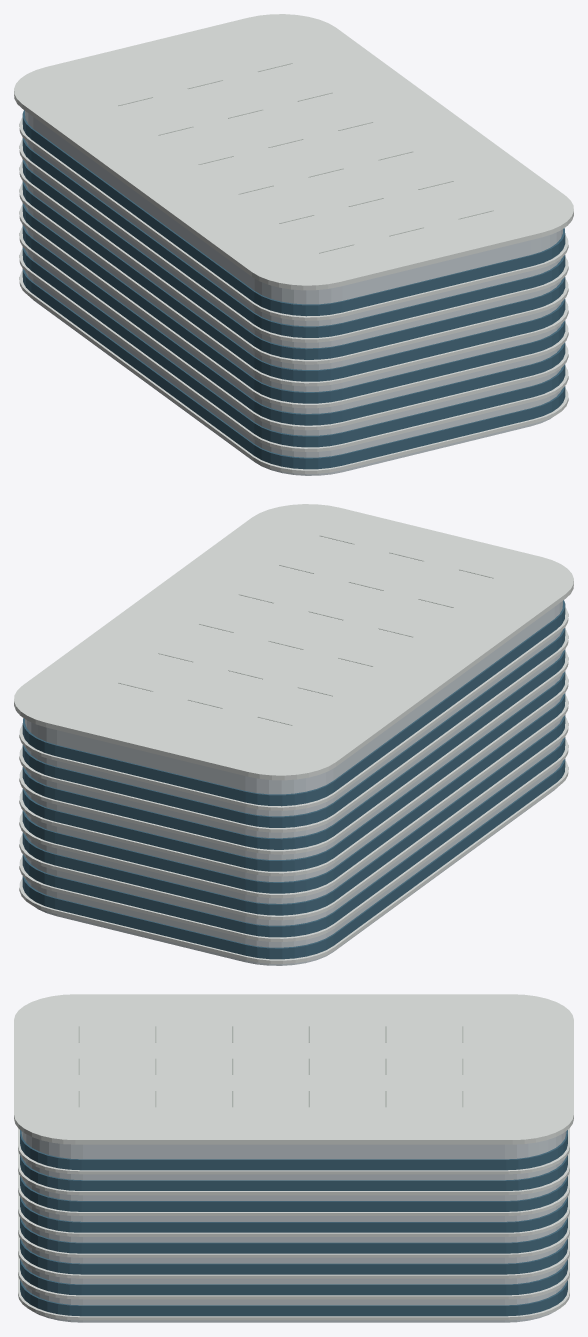
The model's file is parking.glb.
The picture shows the model from 3 angles, top to bottom: view 1: azimuth 30°, elevation 25°; view 2: azimuth 150°, elevation 25°; view 3: azimuth 270°, elevation 25°; orthographic projection. The views are drawn at different scales.
Parts seen in each view (by area): view 1: parking_roof, parking_glass, parking_ivory, parking_line; view 2: parking_roof, parking_glass, parking_ivory, parking_line; view 3: parking_roof, parking_glass, parking_ivory, parking_line.
Boxes of the visible parts, x1=… form: parking_roof: x1=14, y1=14, x2=573, y2=473; parking_glass: x1=22, y1=110, x2=565, y2=469; parking_ivory: x1=25, y1=111, x2=562, y2=475; parking_line: x1=118, y1=63, x2=493, y2=253; parking_roof: x1=14, y1=504, x2=573, y2=963; parking_glass: x1=22, y1=600, x2=565, y2=959; parking_ivory: x1=25, y1=601, x2=562, y2=965; parking_line: x1=118, y1=535, x2=493, y2=725; parking_roof: x1=14, y1=994, x2=573, y2=1320; parking_glass: x1=20, y1=1130, x2=567, y2=1316; parking_ivory: x1=21, y1=1131, x2=566, y2=1322; parking_line: x1=78, y1=1026, x2=463, y2=1107.
Bounding box in the file's own units: 45 × 26.8 × 73.
